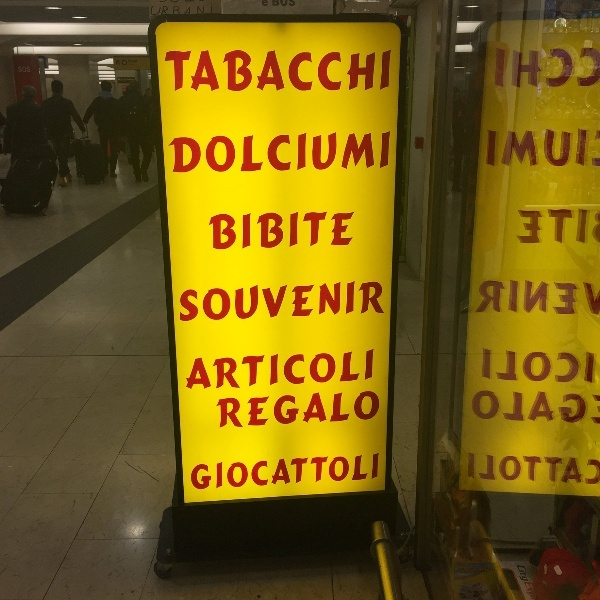text: (369, 279, 385, 323), (497, 46, 512, 92), (513, 46, 528, 92), (529, 46, 544, 92), (545, 46, 560, 92), (561, 46, 576, 92), (577, 46, 592, 92), (209, 347, 224, 393), (225, 347, 240, 393), (241, 347, 256, 393), (257, 347, 272, 393), (273, 347, 288, 393), (289, 347, 304, 393), (305, 347, 320, 393), (321, 347, 336, 393), (337, 347, 352, 393), (353, 347, 368, 393), (177, 130, 192, 175), (193, 130, 208, 175), (209, 130, 224, 175), (225, 130, 240, 175), (241, 130, 256, 175), (257, 130, 272, 175), (273, 130, 288, 175), (289, 130, 304, 175), (305, 130, 320, 175), (321, 130, 336, 175), (337, 130, 352, 175), (353, 130, 368, 175), (369, 130, 384, 175), (193, 279, 208, 323), (209, 279, 224, 323), (225, 279, 240, 323), (241, 279, 256, 323), (257, 279, 272, 323), (273, 279, 288, 323), (289, 279, 304, 323), (305, 279, 320, 323), (321, 279, 336, 323), (337, 279, 352, 323), (353, 279, 368, 323), (177, 50, 192, 93), (193, 50, 208, 93), (209, 50, 224, 93), (225, 50, 240, 93), (241, 50, 256, 93), (257, 50, 272, 93), (273, 50, 288, 93), (289, 50, 304, 93), (305, 50, 320, 93), (321, 50, 336, 93), (337, 50, 352, 93), (353, 50, 368, 93), (369, 50, 384, 93), (193, 452, 208, 493), (209, 452, 224, 493), (225, 452, 240, 493), (241, 452, 256, 493), (257, 452, 272, 493), (273, 452, 288, 493), (289, 452, 304, 493), (305, 452, 320, 493), (321, 452, 336, 493), (337, 452, 352, 493), (353, 452, 368, 493), (497, 129, 512, 169), (513, 129, 528, 169), (529, 129, 544, 169), (545, 129, 560, 169), (561, 129, 576, 169), (577, 129, 592, 169), (209, 211, 224, 251), (225, 211, 240, 251), (241, 211, 256, 251), (257, 211, 272, 251), (273, 211, 288, 251), (289, 211, 304, 251), (305, 211, 320, 251), (321, 211, 336, 251), (337, 211, 352, 251), (225, 390, 240, 430), (241, 390, 256, 430), (257, 390, 272, 430), (273, 390, 288, 430), (289, 390, 304, 430), (305, 390, 320, 430), (321, 390, 336, 430), (337, 390, 352, 430), (353, 390, 368, 430), (529, 208, 544, 246), (545, 208, 560, 246), (561, 208, 576, 246), (481, 280, 496, 318), (497, 280, 512, 318), (513, 280, 528, 318), (529, 280, 544, 318), (545, 280, 560, 318), (561, 280, 576, 318), (577, 280, 592, 318), (497, 347, 512, 385), (513, 347, 528, 385), (529, 347, 544, 385), (545, 347, 560, 385), (561, 347, 576, 385), (577, 347, 592, 385), (481, 389, 496, 426), (497, 389, 512, 426), (513, 389, 528, 426), (529, 389, 544, 426), (545, 389, 560, 426), (561, 389, 576, 426), (577, 389, 592, 426), (196, 347, 208, 393), (481, 452, 496, 486), (497, 452, 512, 486), (513, 452, 528, 486), (529, 452, 544, 486), (545, 452, 560, 486), (561, 452, 576, 486), (577, 452, 592, 486), (483, 347, 496, 385), (181, 279, 192, 323), (369, 390, 381, 430), (369, 452, 380, 493), (166, 50, 176, 93), (577, 208, 588, 246), (468, 452, 480, 486), (518, 208, 528, 246), (593, 46, 600, 92), (488, 129, 496, 169), (385, 130, 392, 175), (593, 129, 600, 169), (217, 390, 224, 430), (369, 347, 375, 393), (170, 130, 176, 175), (593, 280, 600, 318), (593, 389, 600, 426), (385, 50, 391, 93), (593, 452, 600, 486), (474, 389, 480, 426), (516, 565, 528, 583), (177, 3, 192, 17), (193, 3, 208, 17), (353, 211, 357, 251), (529, 581, 536, 599), (273, 1, 288, 9), (465, 566, 480, 574), (481, 566, 496, 574), (593, 347, 596, 385), (18, 66, 32, 74), (151, 5, 160, 17), (261, 1, 272, 9), (161, 5, 168, 17), (129, 59, 138, 67), (524, 581, 528, 599), (116, 60, 128, 66), (289, 1, 296, 9), (209, 3, 213, 17), (458, 566, 464, 574), (174, 3, 176, 17)
